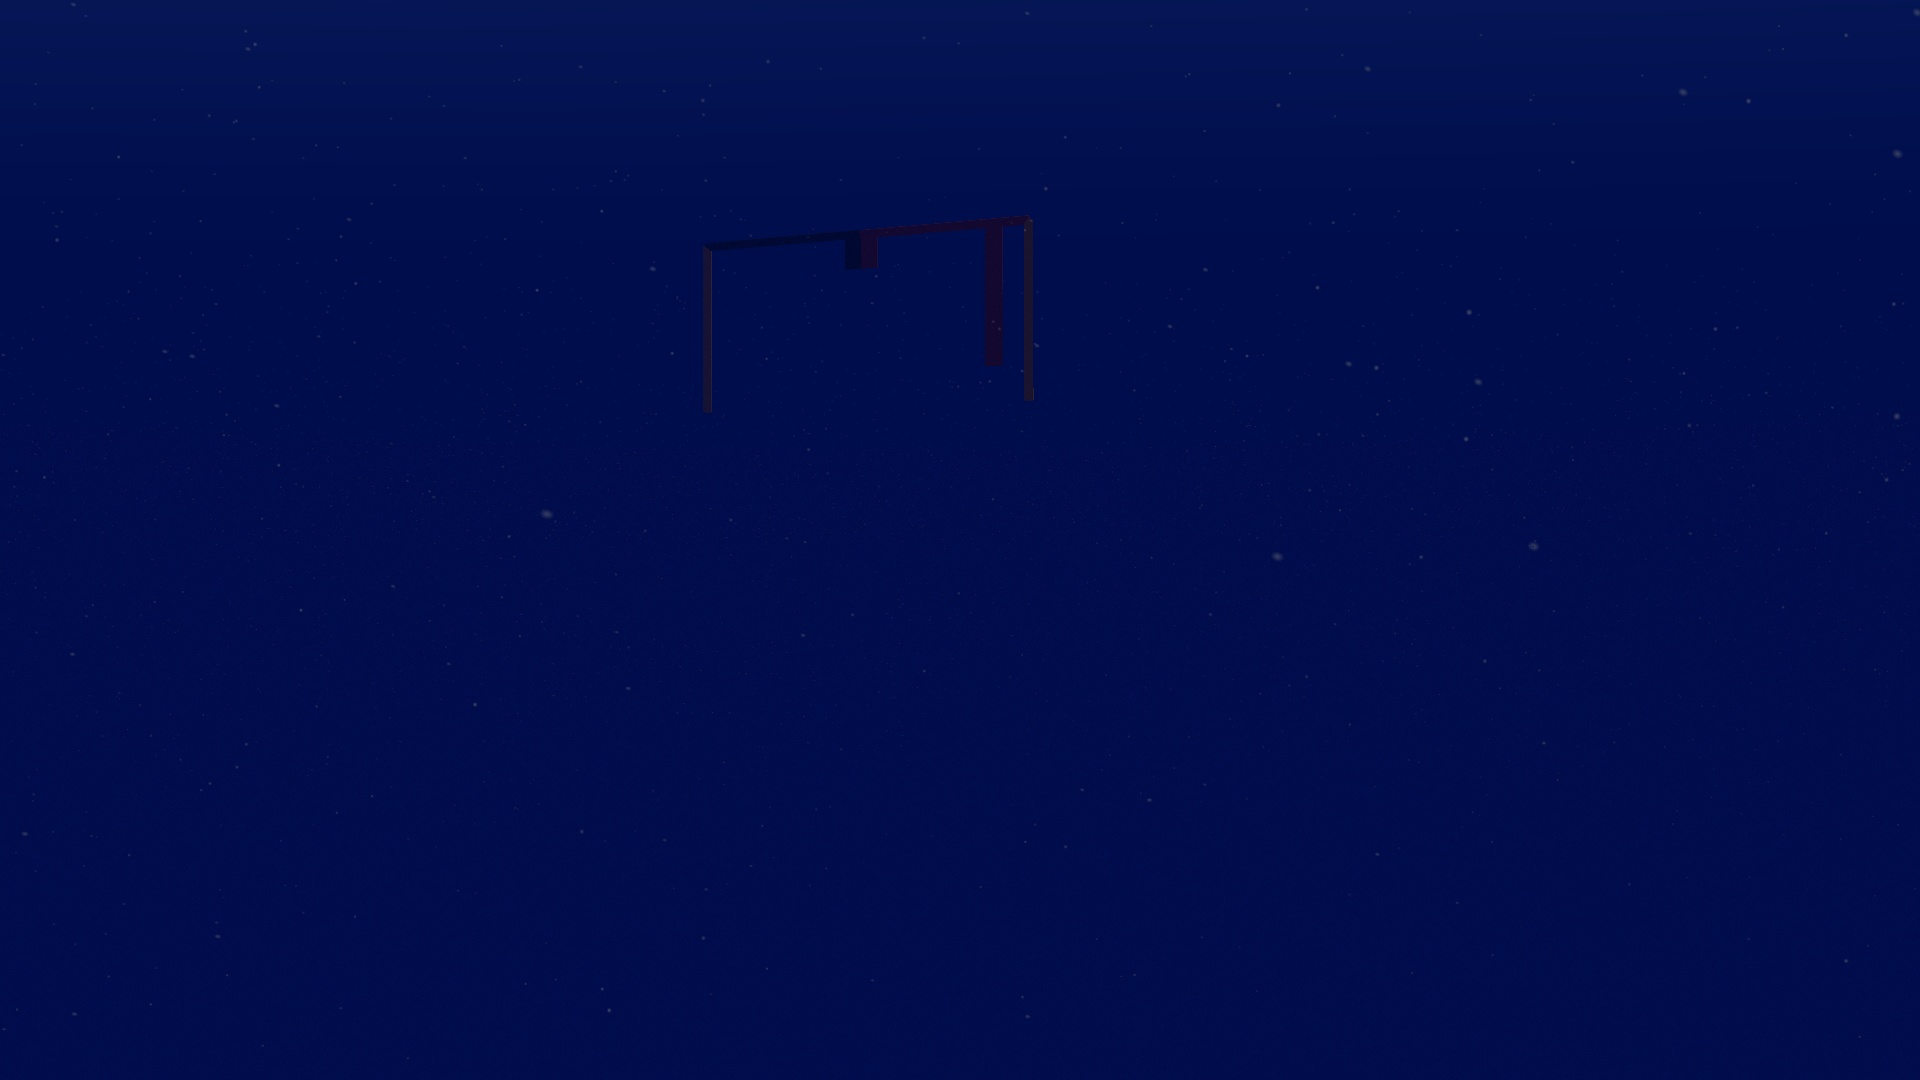Gate: (694, 210, 1043, 419)
